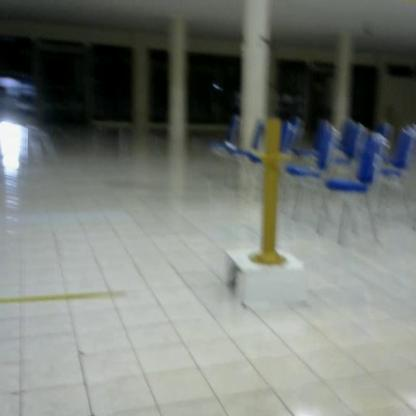pole: (248, 115, 294, 271)
